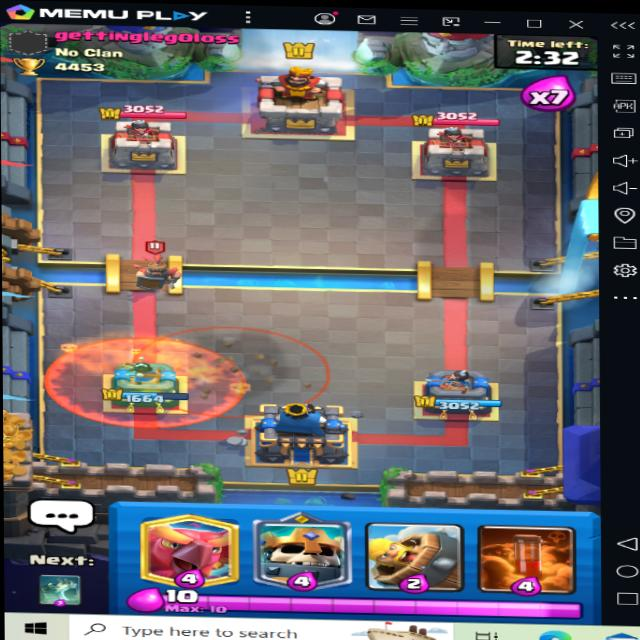Earthquake: (142, 323, 324, 420)
Poison: (45, 329, 247, 430)
Royalrecruits: (132, 239, 188, 295)
